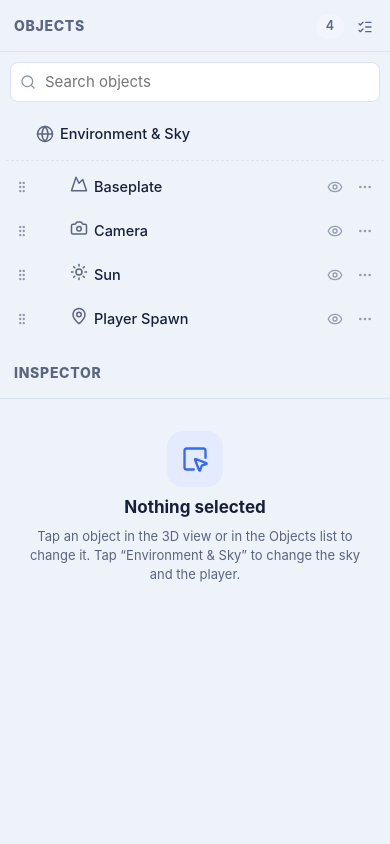
it: Touch multi-select › selects several objects with the Select several toggle
Click the button named "Select several" at (365, 26), box [350, 12, 380, 42]
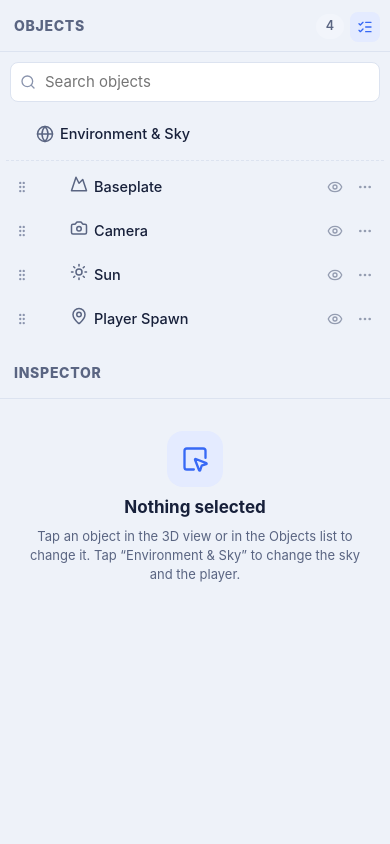
Click the list item with test id "tree-row-Camera" at (121, 231), box [6, 209, 384, 253]
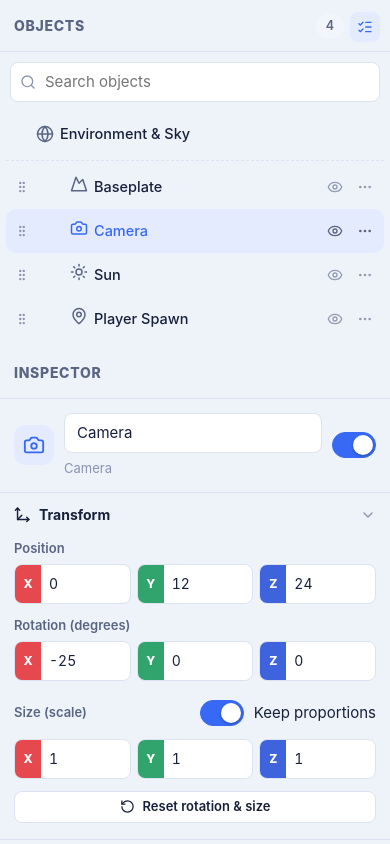
Click the list item with test id "tree-row-Sun" at (22, 275), box [6, 253, 384, 297]
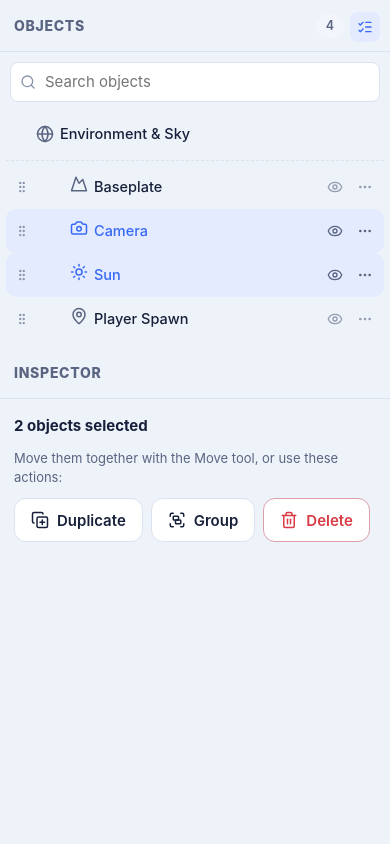
Check: the text "2 objects selected" is shown, box [14, 416, 148, 435]
